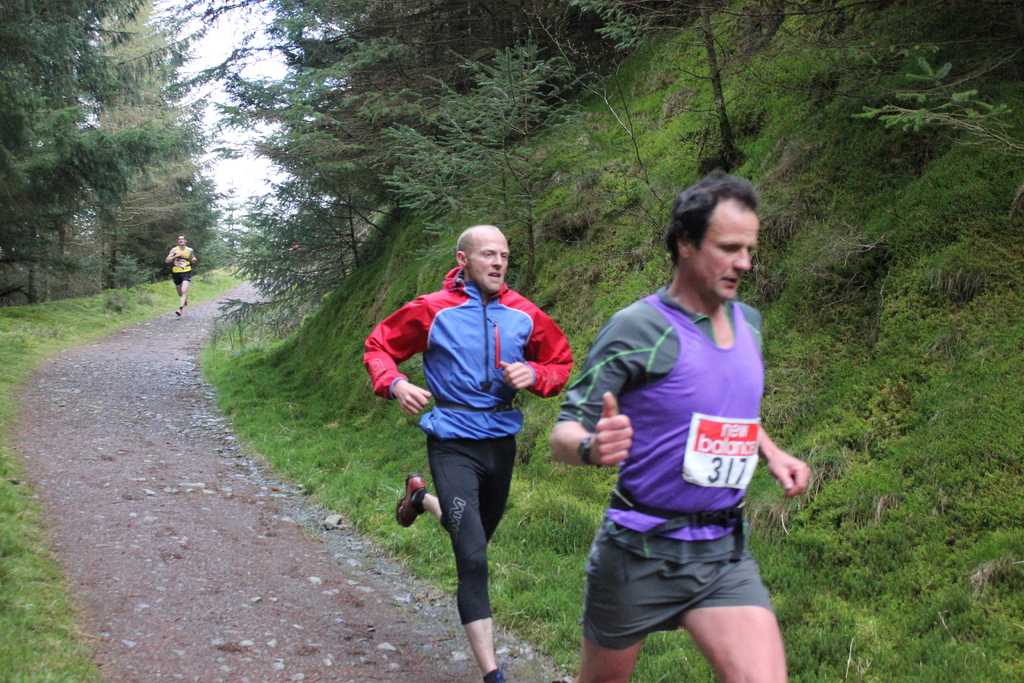Tree: (142, 0, 1023, 682), (0, 0, 265, 309), (83, 0, 222, 270)
